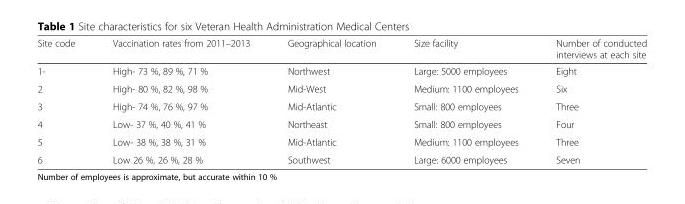table: (36, 37, 646, 164)
table column: (93, 37, 268, 164), (394, 37, 536, 164), (268, 37, 394, 164), (536, 37, 646, 164), (36, 37, 93, 164)
table column header: (36, 37, 646, 62)
table row: (36, 37, 646, 62), (36, 79, 646, 97), (36, 97, 646, 115), (36, 132, 646, 150), (36, 62, 646, 79), (36, 115, 646, 132), (36, 150, 646, 164)
